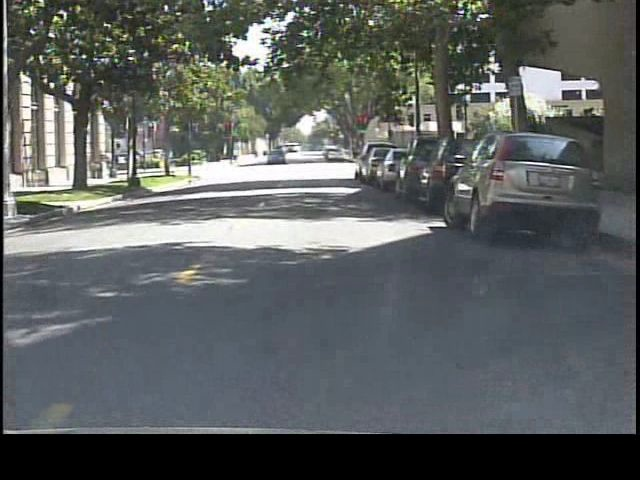person: (230, 141, 243, 167)
